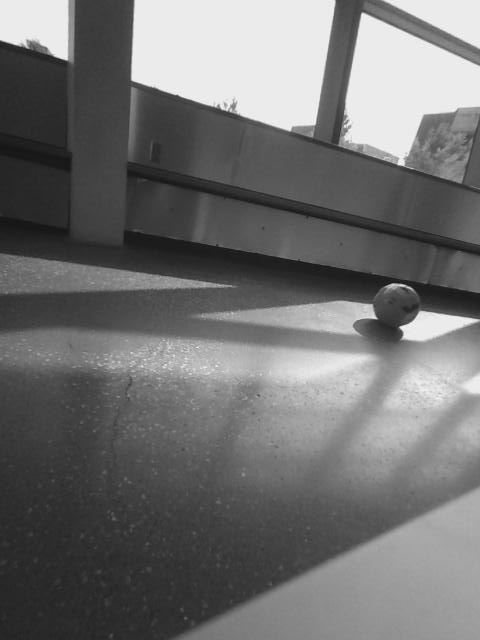ball: (372, 280, 423, 327)
